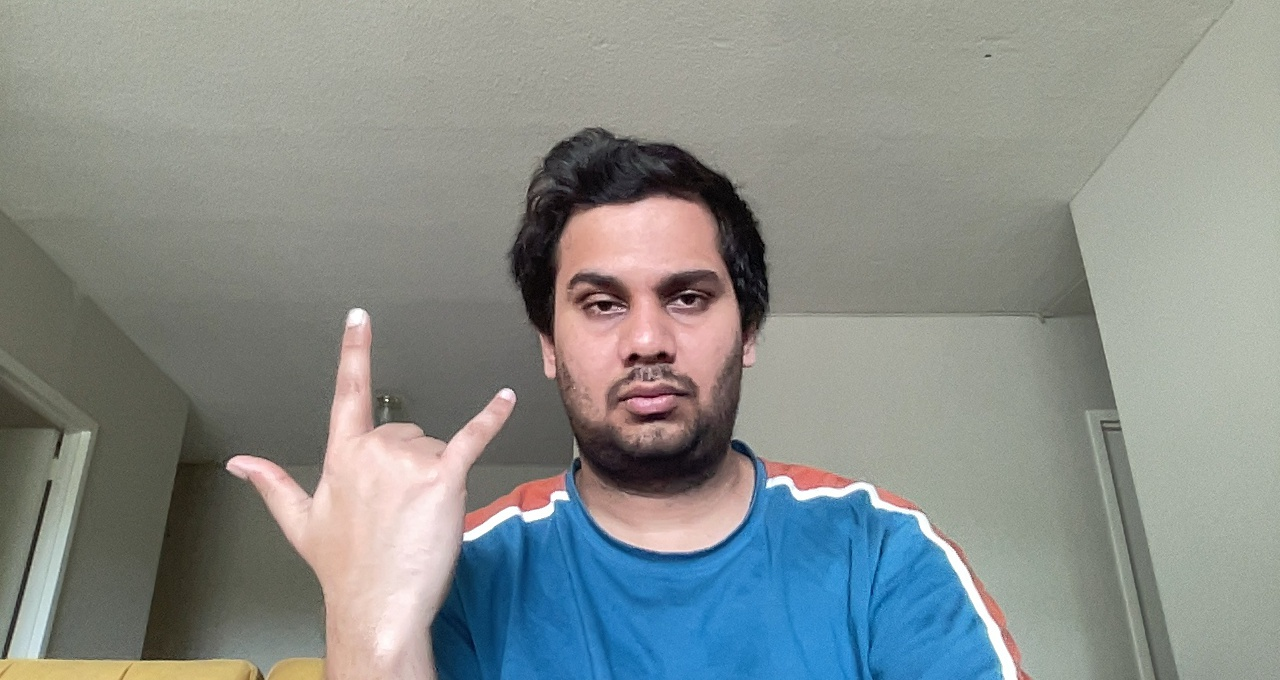rockon sign: (205, 298, 526, 636)
